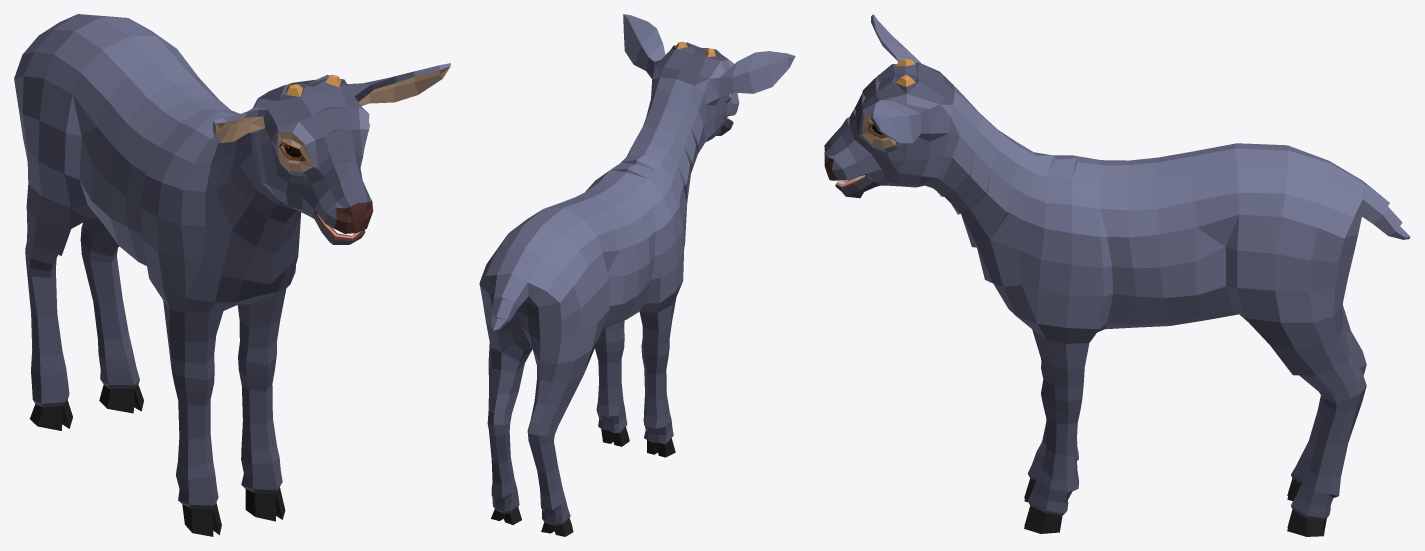
File: LowPoly_Goatling_8.obj
3 renders of one model, left to right at view 1: azimuth 30°, elevation 25°; view 2: azimuth 150°, elevation 25°; view 3: azimuth 270°, elevation 25°, orthographic. The views are drawn at different scales.
Parts seen in each view (by area): view 1: Goatling_8_Cube.009; view 2: Goatling_8_Cube.009; view 3: Goatling_8_Cube.009.
Boxes of the visible parts, <box> form: Goatling_8_Cube.009: <box>14,14,450,536</box>; Goatling_8_Cube.009: <box>479,14,795,536</box>; Goatling_8_Cube.009: <box>824,14,1410,536</box>.
Size of the model in its own units: 0.2081 by 0.4165 by 0.4937.
